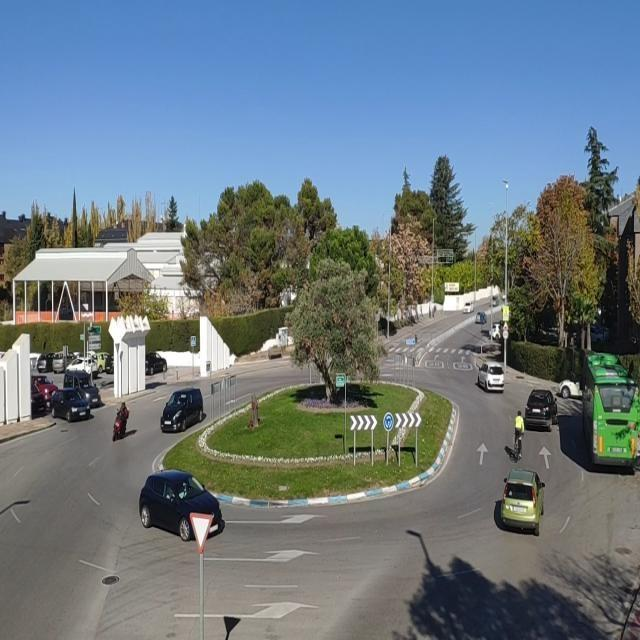Bus: (582, 347, 640, 472)
Car: (138, 470, 223, 540), (500, 469, 546, 535), (159, 389, 205, 432), (64, 371, 102, 409), (524, 389, 558, 430), (50, 388, 92, 421), (31, 375, 59, 408), (477, 362, 505, 392), (65, 356, 100, 378), (52, 352, 79, 374), (31, 383, 48, 414), (145, 352, 167, 375), (36, 352, 58, 372), (558, 378, 580, 398), (92, 352, 111, 374), (590, 325, 610, 344), (105, 352, 116, 375), (490, 322, 503, 340), (475, 312, 487, 324), (464, 302, 474, 313), (492, 296, 499, 306)
Cycle: (110, 410, 130, 441), (512, 427, 525, 463)
